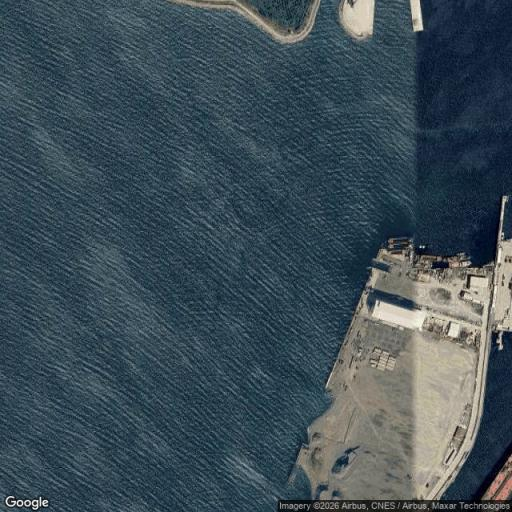ship: (445, 255, 472, 262), (449, 261, 472, 268), (421, 255, 443, 262), (387, 238, 412, 243), (387, 244, 410, 249), (388, 250, 409, 255)
